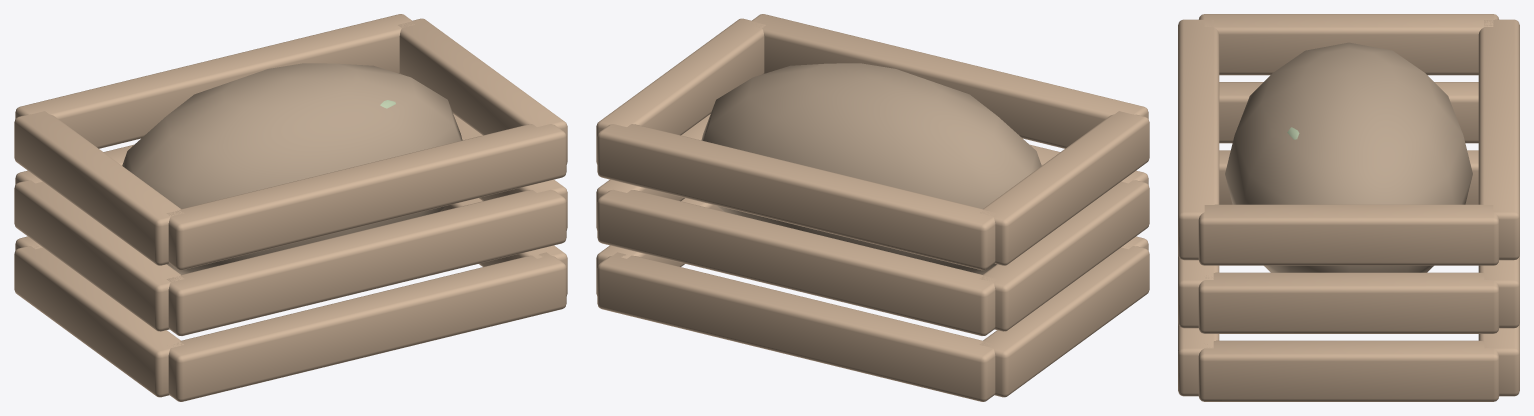
File: compost-full.glb
3 views of the same model, side by side, from view 1: azimuth 30°, elevation 25°; view 2: azimuth 150°, elevation 25°; view 3: azimuth 270°, elevation 25° (orthographic). The views are drawn at different scales.
Visible parts, largest first — view 1: Collected compost, Compost bin slat.002, Compost bin slat.004, Compost bin slat, Compost bin slat.005, Compost bin side.004, Compost bin side, Compost bin side.002, Compost bin side.005, Compost bin side.003, Compost bin side.001, Compost bin slat.003; view 2: Collected compost, Compost bin slat.005, Compost bin slat.001, Compost bin slat.003, Compost bin slat.004, Compost bin side.004, Compost bin side, Compost bin side.002, Compost bin side.005, Compost bin side.003, Compost bin side.001, Compost bin slat.002; view 3: Collected compost, Compost bin side.005, Compost bin side.003, Compost bin side.001, Compost bin side.004, Compost bin slat.005, Compost bin slat.004, Compost bin side.002, Compost bin slat.002, Compost bin slat.003, Compost bin slat, Compost bin slat.001 (+1 smaller).
Boxes of the visible parts, <box> form: Collected compost: <box>122,63,462,274</box>; Compost bin slat.002: <box>166,189,566,335</box>; Compost bin slat.004: <box>166,124,566,270</box>; Compost bin slat: <box>168,252,566,401</box>; Compost bin slat.005: <box>15,14,414,148</box>; Compost bin side.004: <box>14,111,183,265</box>; Compost bin side: <box>14,246,183,397</box>; Compost bin side.002: <box>14,180,183,331</box>; Compost bin side.005: <box>398,18,567,164</box>; Compost bin side.003: <box>453,114,567,230</box>; Compost bin side.001: <box>441,198,567,295</box>; Compost bin slat.003: <box>15,144,133,184</box>; Collected compost: <box>701,63,1041,274</box>; Compost bin slat.005: <box>597,124,997,270</box>; Compost bin slat.001: <box>597,252,995,401</box>; Compost bin slat.003: <box>597,189,997,335</box>; Compost bin slat.004: <box>749,14,1148,148</box>; Compost bin side.004: <box>980,111,1149,265</box>; Compost bin side: <box>979,246,1149,397</box>; Compost bin side.002: <box>980,180,1149,331</box>; Compost bin side.005: <box>596,18,765,164</box>; Compost bin side.003: <box>596,114,710,230</box>; Compost bin side.001: <box>596,198,722,295</box>; Compost bin slat.002: <box>1030,144,1148,184</box>; Collected compost: <box>1225,42,1472,272</box>; Compost bin side.005: <box>1198,204,1499,265</box>; Compost bin side.003: <box>1198,272,1499,333</box>; Compost bin side.001: <box>1198,340,1499,401</box>; Compost bin side.004: <box>1199,14,1498,75</box>; Compost bin slat.005: <box>1478,19,1519,260</box>; Compost bin slat.004: <box>1178,19,1219,260</box>; Compost bin side.002: <box>1219,82,1478,143</box>; Compost bin slat.002: <box>1178,255,1219,328</box>; Compost bin slat.003: <box>1478,255,1519,328</box>; Compost bin slat: <box>1178,323,1219,396</box>; Compost bin slat.001: <box>1478,323,1519,396</box>.
Bounding box in the file's own units: 1.31 × 0.664 × 0.91.
